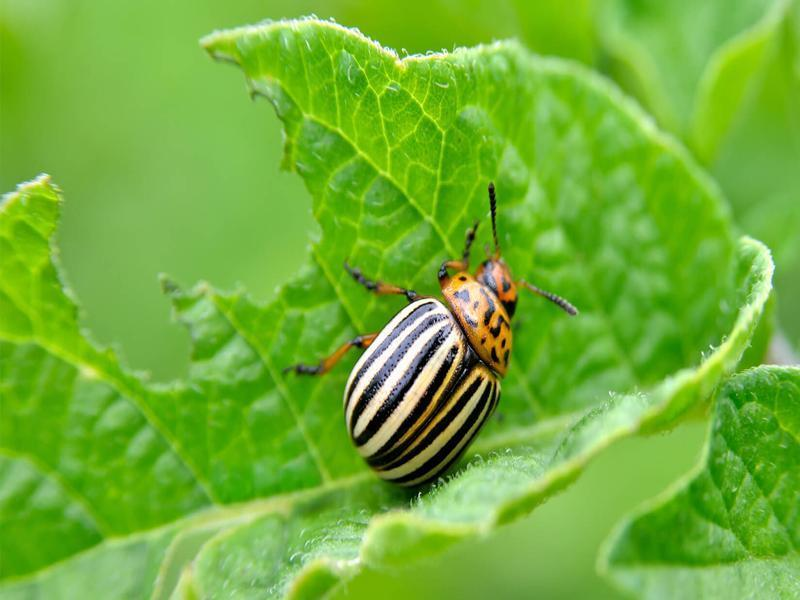hrosc: (319, 229, 541, 486)
